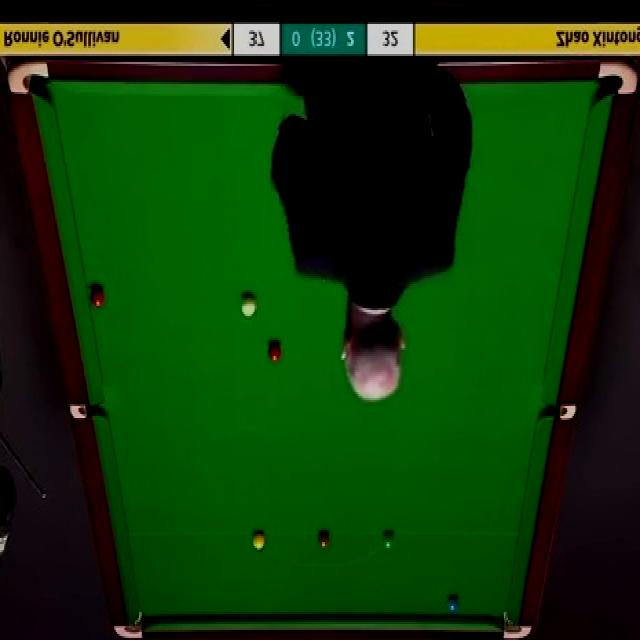blue-ball: (446, 596, 460, 616)
brown-ball: (317, 531, 330, 548)
green-ball: (382, 528, 396, 552)
red-ball: (91, 286, 105, 309), (268, 340, 281, 362)
white-ball: (240, 292, 256, 317)
yellow-ball: (252, 530, 266, 551)
